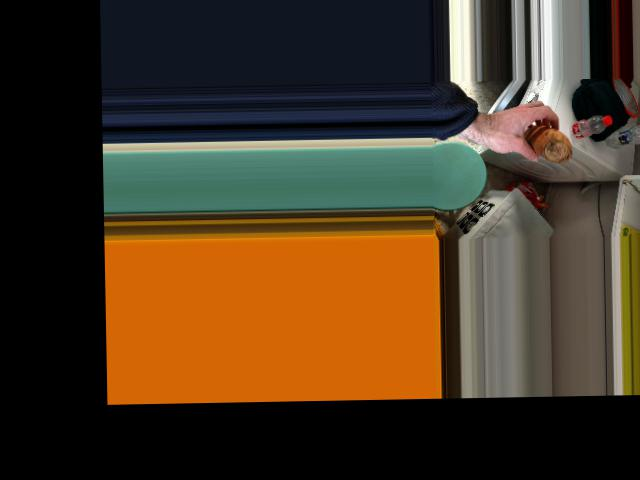sweet_potato: (522, 122, 572, 163)
